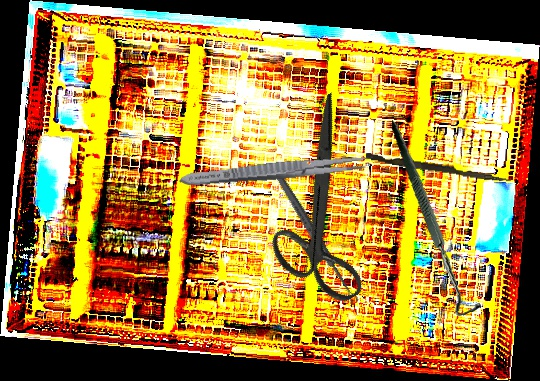Dressing Forceps: (177, 150, 375, 191)
Hook Surgical: (369, 120, 503, 319)
Iris Scissors: (217, 91, 427, 322)
Pusher: (365, 152, 512, 184)
Surgical Spoon: (272, 170, 360, 306)
